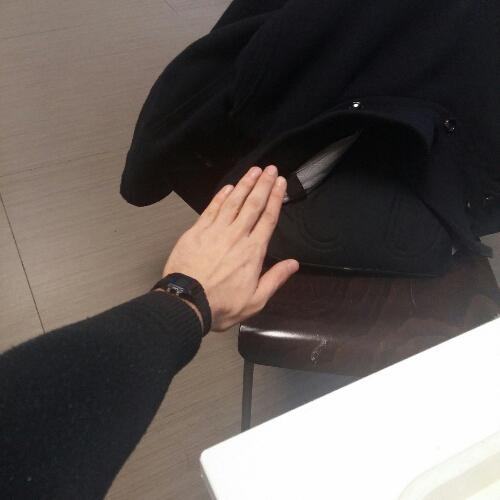paper: (150, 156, 308, 338)
